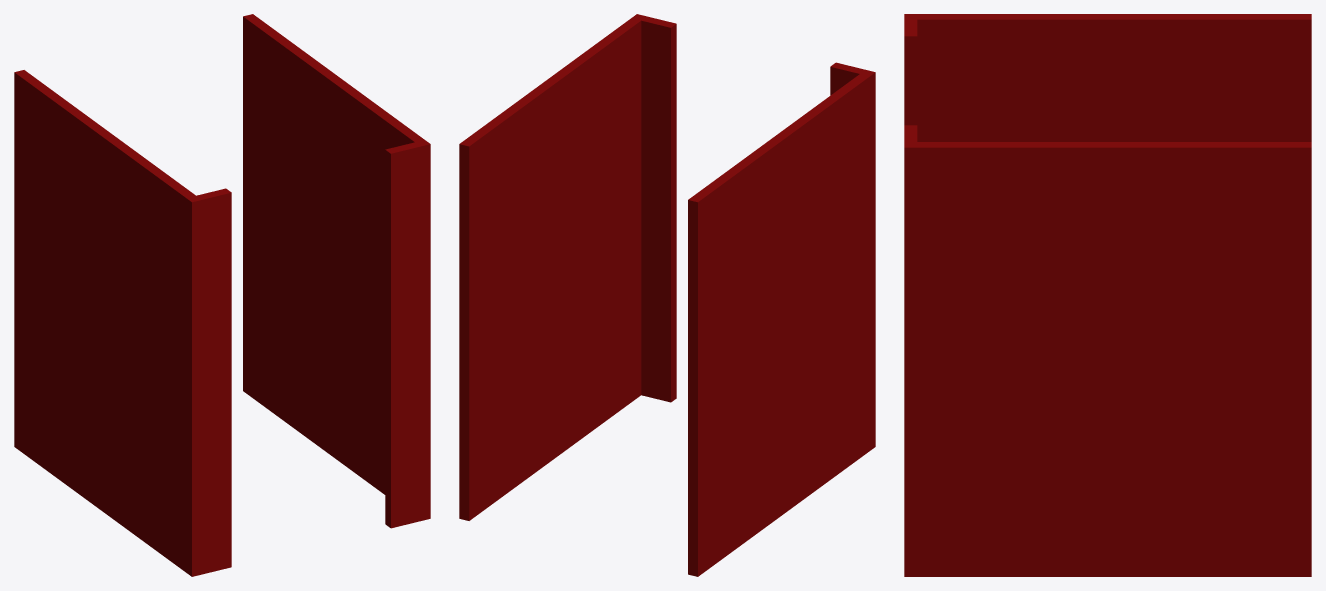
File: toilet-panel.glb
3 renders of one model, left to right at view 1: azimuth 30°, elevation 25°; view 2: azimuth 150°, elevation 25°; view 3: azimuth 270°, elevation 25°, orthographic. The views are drawn at different scales.
Visible parts, largest first — view 1: ToiletWall; view 2: ToiletWall; view 3: ToiletWall.
Part boxes in pixels (bbox=[...]): ToiletWall: bbox=[14, 14, 430, 576]; ToiletWall: bbox=[459, 14, 875, 576]; ToiletWall: bbox=[904, 14, 1311, 576].
Bounding box in the file's own units: 1.2 × 1.8 × 1.55.
